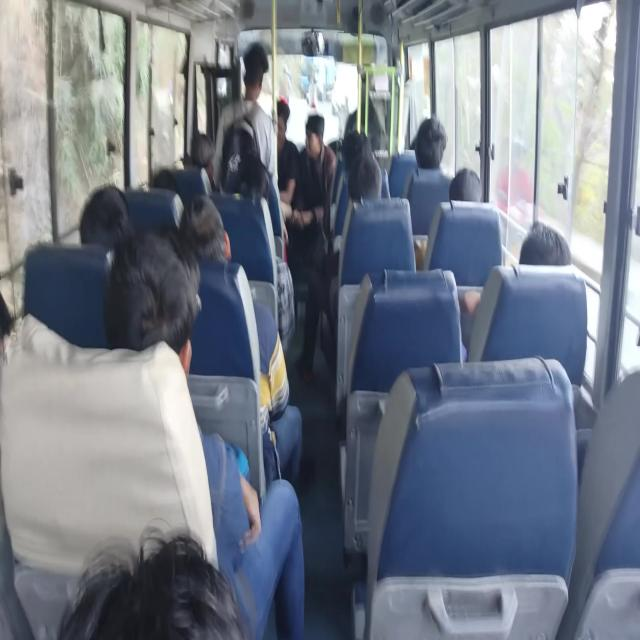person: (103, 225, 305, 638), (179, 193, 303, 488), (57, 520, 245, 639), (458, 220, 572, 361), (213, 42, 288, 250), (290, 112, 338, 382), (78, 183, 130, 248), (494, 138, 534, 220), (274, 97, 300, 215), (519, 220, 571, 266), (413, 115, 448, 170), (348, 152, 382, 203), (448, 167, 482, 202)
